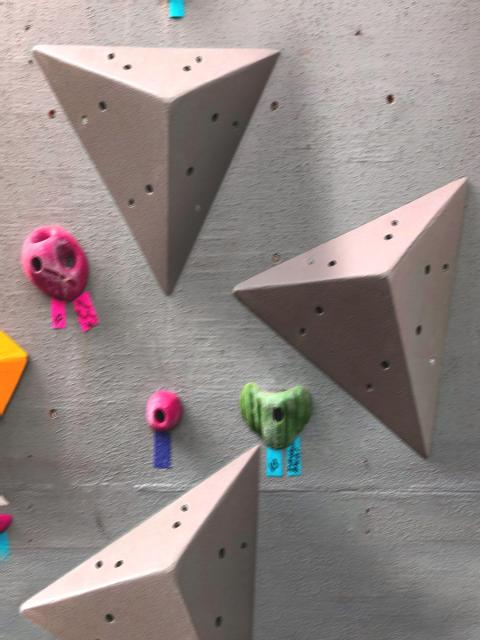crimp: (239, 382, 311, 447)
jib: (145, 390, 182, 430)
pocket: (20, 225, 87, 300)
volume: (233, 178, 467, 457), (32, 44, 279, 293), (20, 446, 259, 639)
